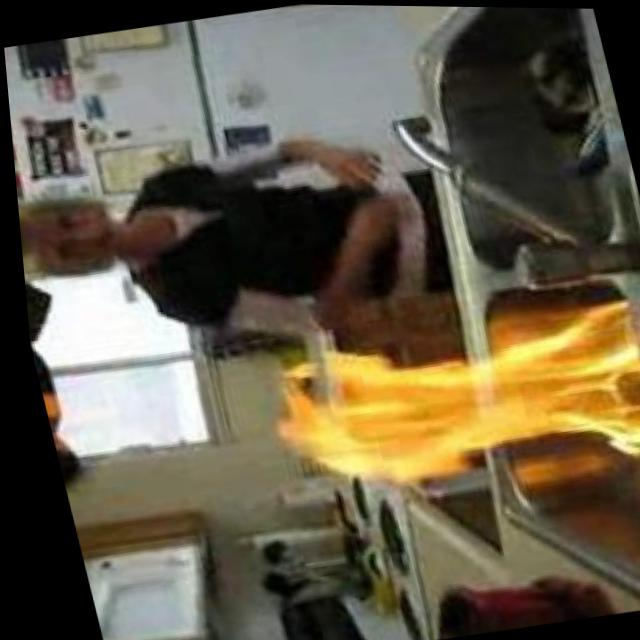Fire: (248, 286, 640, 505)
